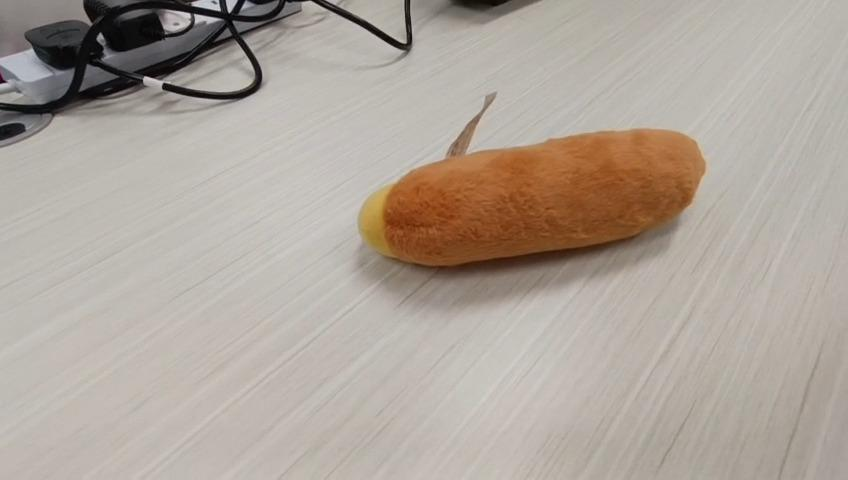hotdog: (356, 91, 706, 267)
